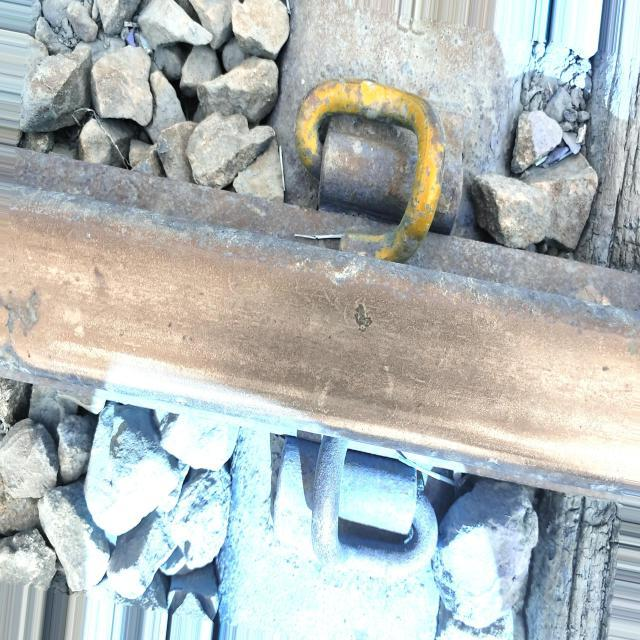squats_high: (0, 285, 41, 341), (353, 298, 372, 334), (598, 360, 611, 377)
